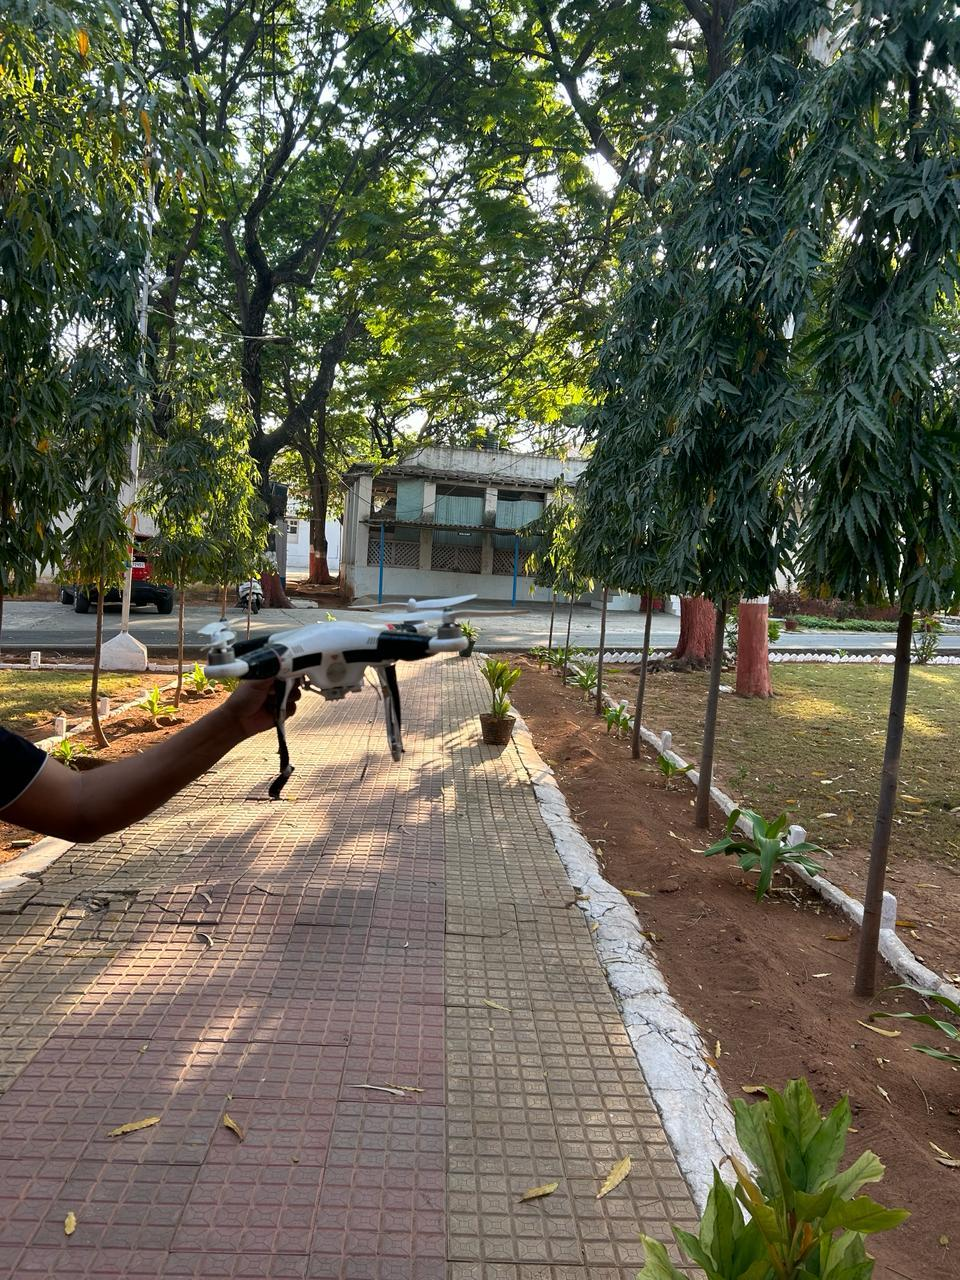drone: (198, 550, 513, 804)
